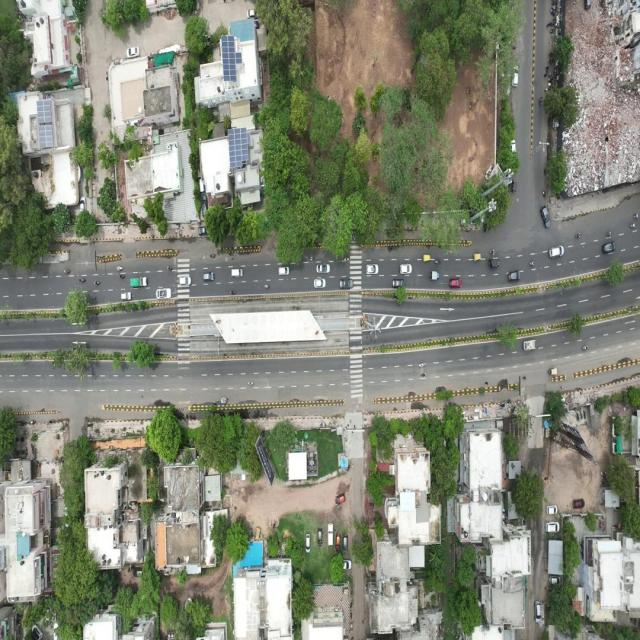3W: (486, 258, 502, 268), (472, 252, 483, 263), (422, 253, 432, 264), (547, 367, 558, 376), (512, 180, 517, 196)
Cars: (541, 203, 554, 231), (545, 520, 560, 538), (571, 497, 587, 513), (124, 44, 141, 59), (534, 597, 542, 628), (155, 287, 174, 300), (364, 262, 381, 276), (547, 246, 565, 259), (512, 62, 520, 91), (602, 241, 619, 254), (338, 278, 356, 290), (327, 522, 335, 549), (316, 262, 332, 275), (522, 339, 538, 352), (546, 502, 559, 518), (304, 532, 313, 554), (392, 278, 407, 291), (399, 262, 413, 275), (508, 270, 522, 283), (277, 266, 292, 278), (202, 270, 215, 283), (313, 277, 326, 290), (334, 493, 347, 506), (231, 267, 245, 279), (177, 276, 193, 286), (120, 290, 133, 302), (317, 526, 324, 548), (343, 531, 348, 555), (335, 532, 341, 551)
LCV: (129, 275, 150, 287), (428, 270, 441, 282), (220, 396, 229, 406)
M2W: (538, 92, 544, 109), (574, 231, 583, 241), (340, 256, 351, 263), (93, 279, 102, 287), (166, 264, 174, 273), (632, 210, 640, 219), (542, 188, 547, 201), (545, 64, 550, 77), (79, 277, 88, 284), (228, 289, 237, 296), (308, 256, 317, 263), (488, 249, 497, 256), (528, 261, 537, 268), (606, 230, 613, 239), (628, 223, 637, 230), (247, 380, 256, 387), (119, 273, 126, 281), (582, 344, 590, 351), (420, 371, 427, 379), (63, 269, 72, 275), (262, 283, 271, 289), (116, 266, 123, 273), (435, 258, 441, 265), (419, 363, 425, 368)
